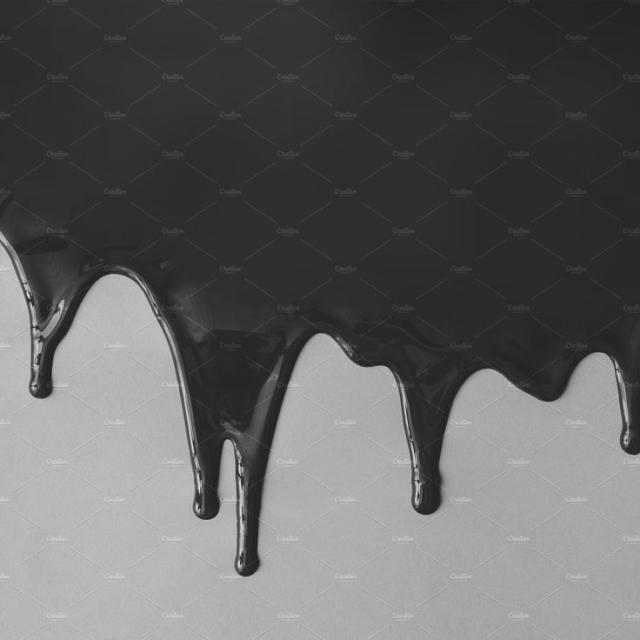paint drips: (0, 210, 640, 582)
